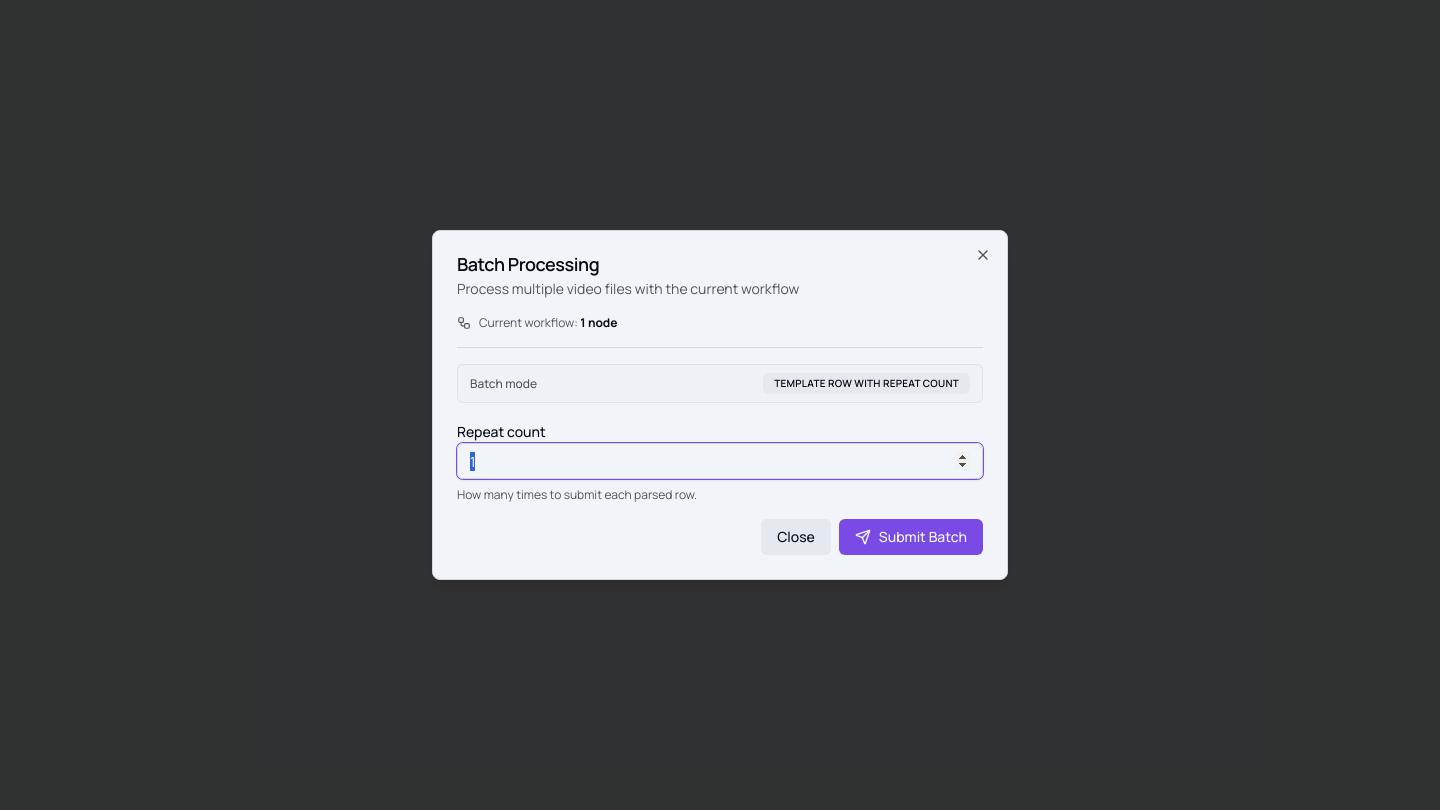
Scenario: BatchPanel › guards double-click submit so only one in-flight chain runs
What coordinates should you click on to do the following:
click the button "Submit Batch"
I would click on:
 (911, 537)
Its box is [839,519,983,555].
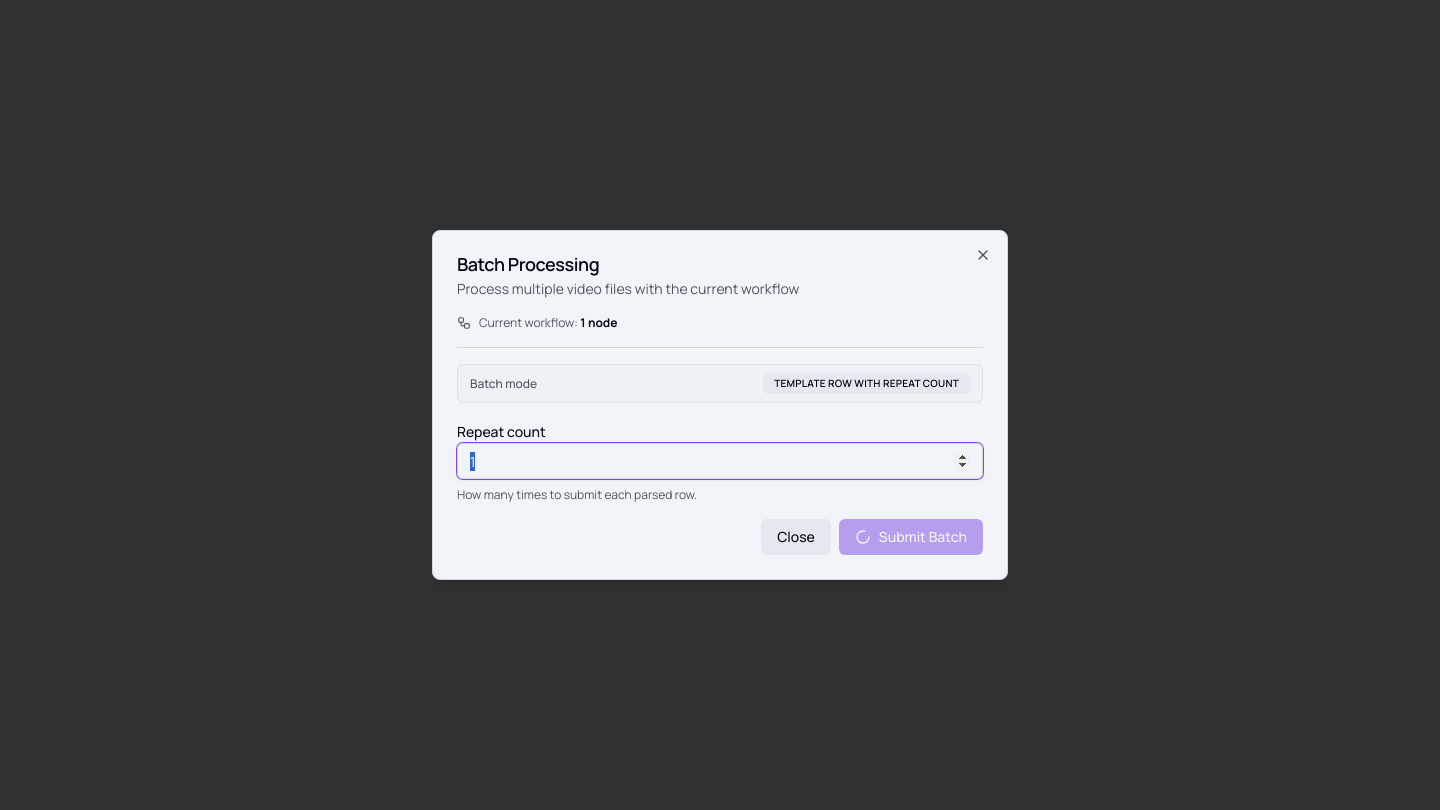
What coordinates should you click on to do the following:
click the button "Submit Batch"
I would click on:
 (911, 537)
Its box is [839,519,983,555].
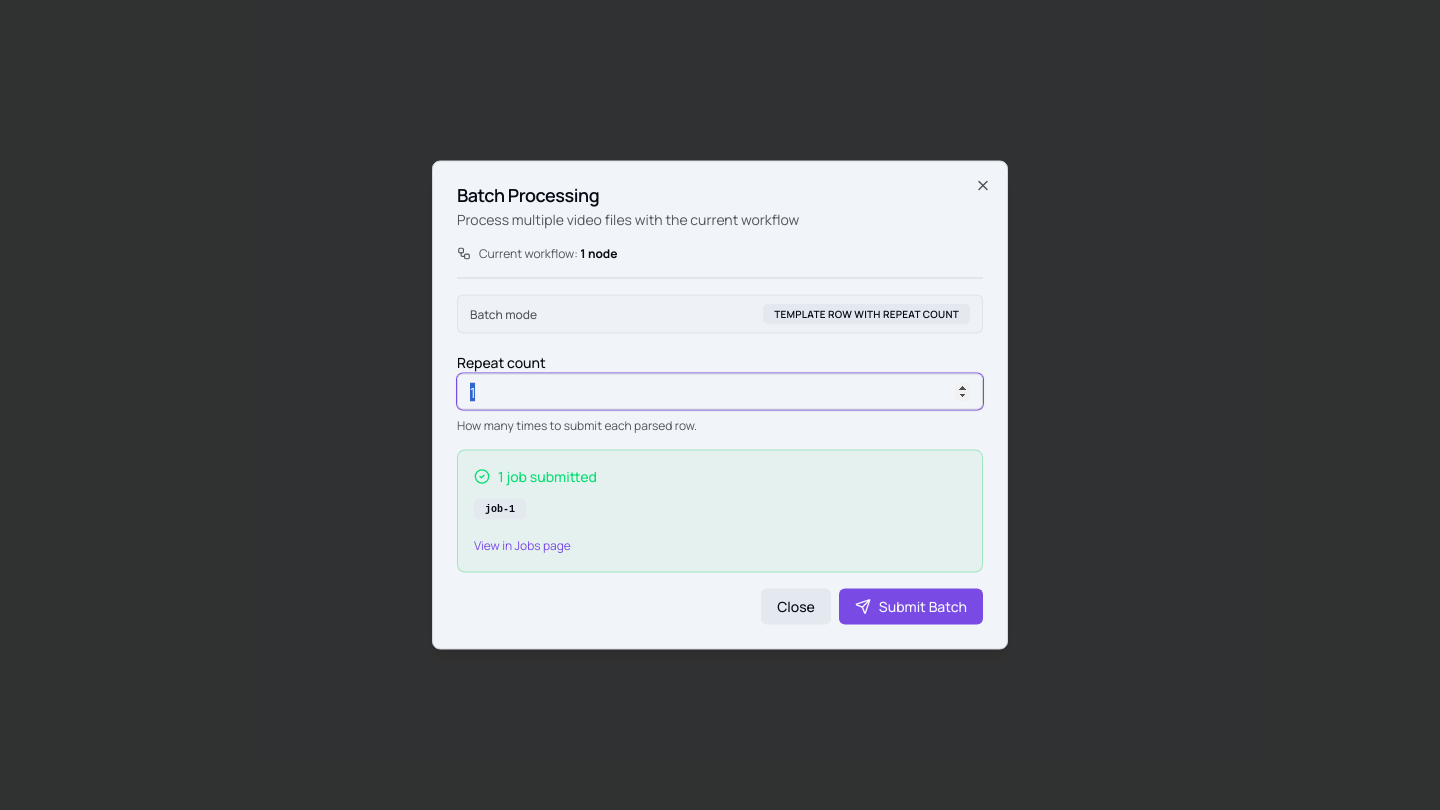
Expected: the text "1 job submitted" is shown, [498,466,597,486]
